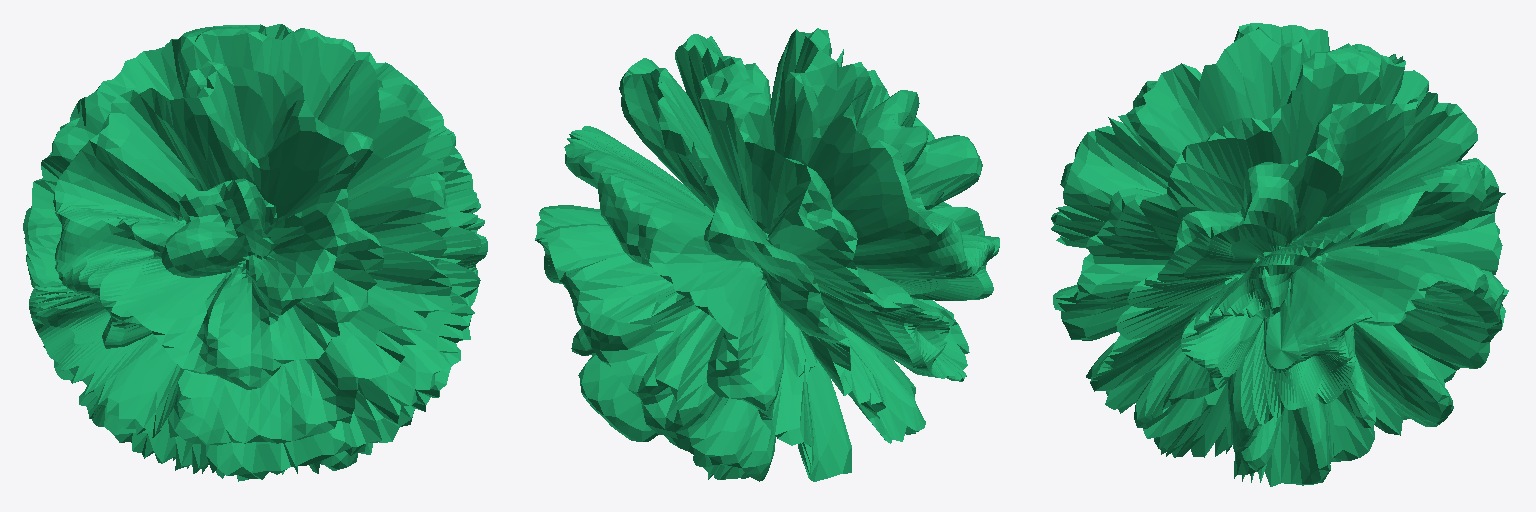
Rendered from outside_ball_piek_1.obj.
3 views of the same model, side by side, from view 1: azimuth 30°, elevation 25°; view 2: azimuth 150°, elevation 25°; view 3: azimuth 270°, elevation 25° (orthographic).
Visible parts, largest first — view 1: Outside_ball_pieks.001; view 2: Outside_ball_pieks.001; view 3: Outside_ball_pieks.001.
Part boxes in pixels (x1,y1,x2,y2): Outside_ball_pieks.001: (23,24,487,481); Outside_ball_pieks.001: (535,28,999,481); Outside_ball_pieks.001: (1051,23,1508,486).
Size of the model in its own units: 0.2083 by 0.2058 by 0.2057.